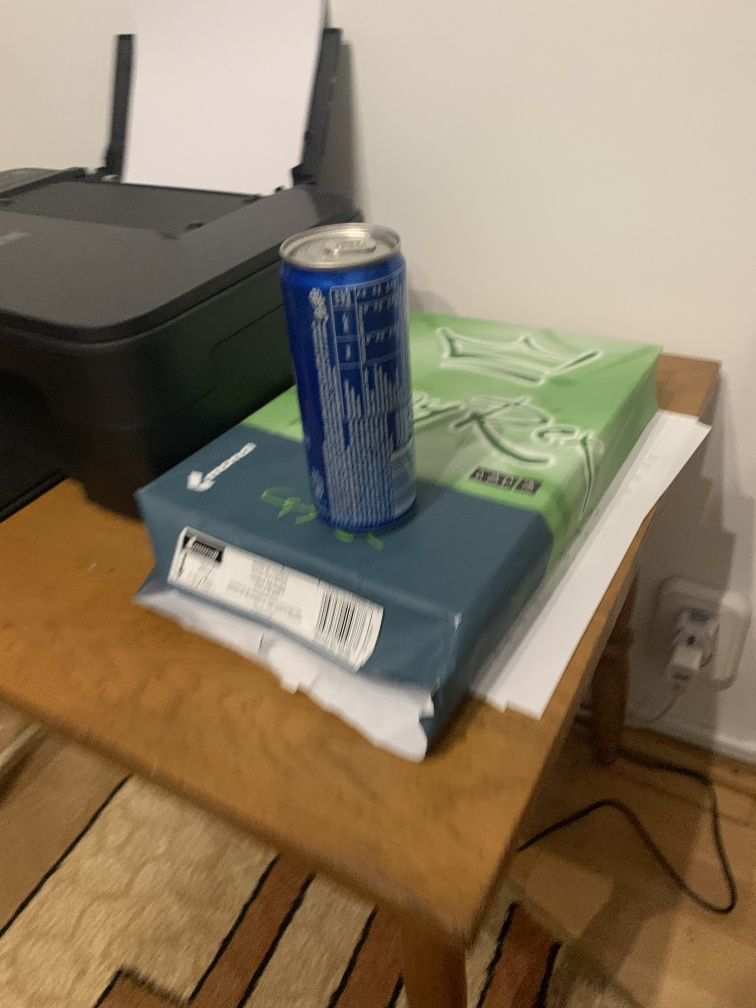pepsi: (274, 220, 423, 528)
